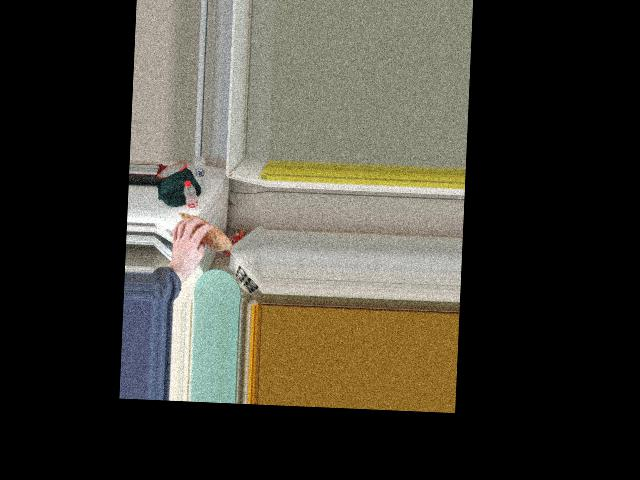sweet_potato: (175, 214, 230, 252)
